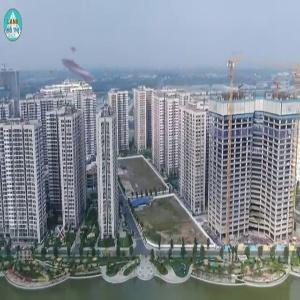drone: (41, 28, 125, 112)
